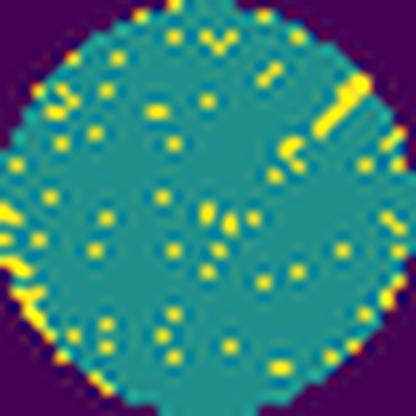Scratch: (310, 73, 374, 143)
